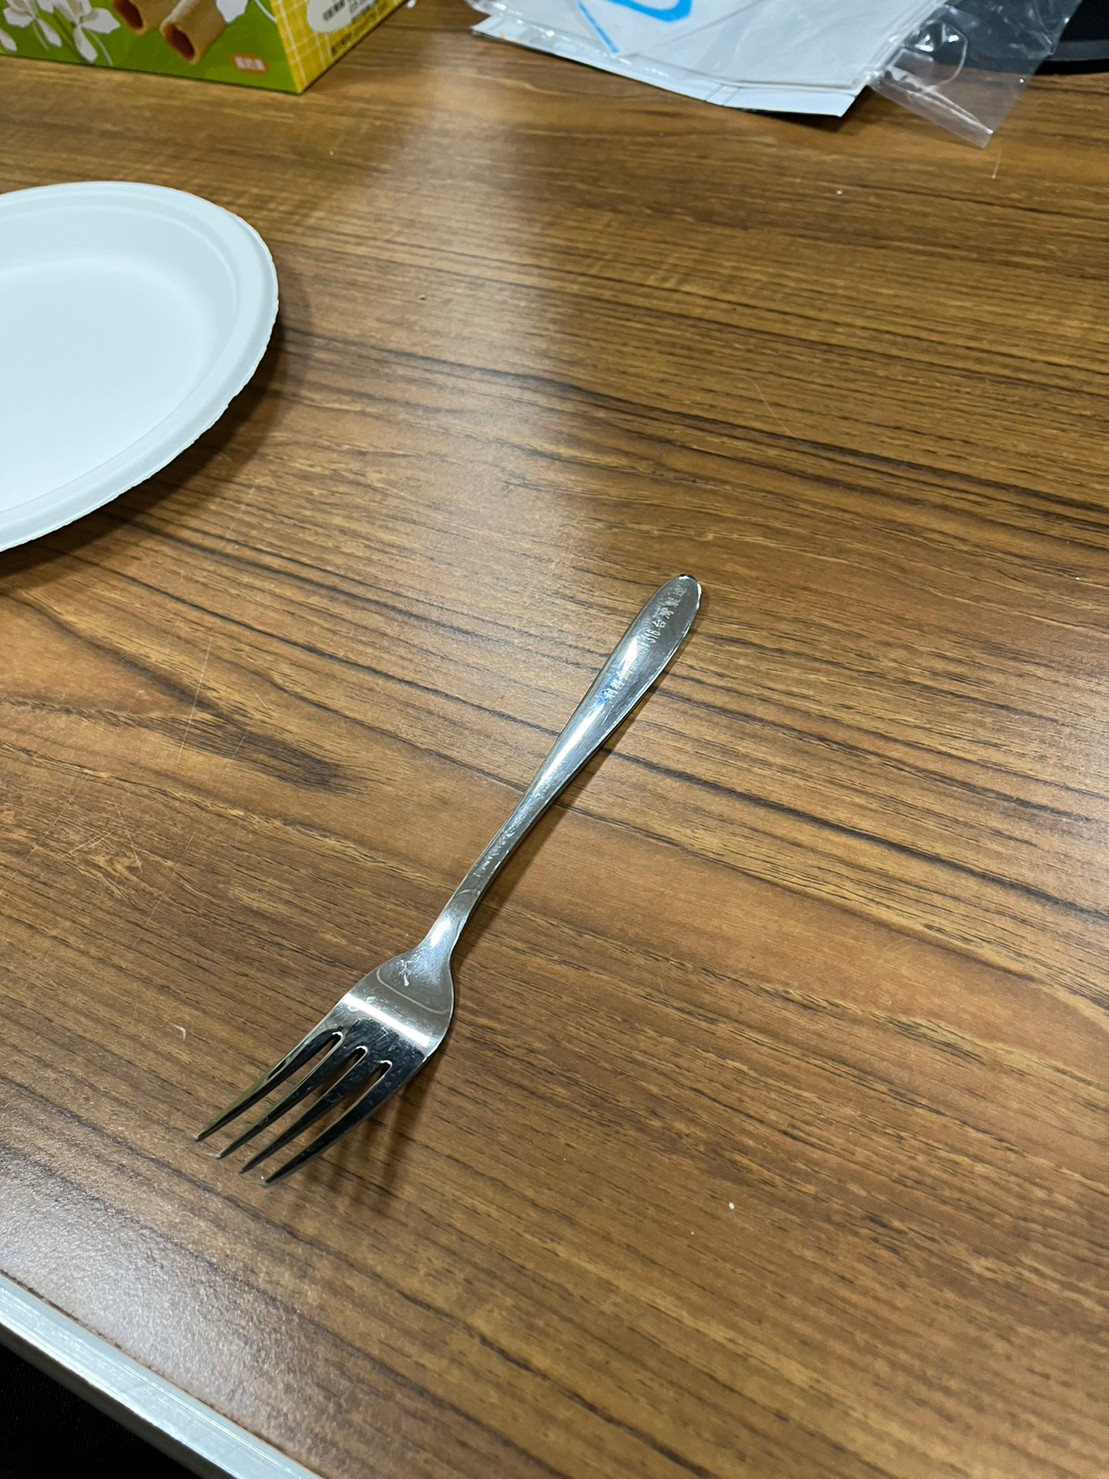fork: (185, 560, 719, 1206)
